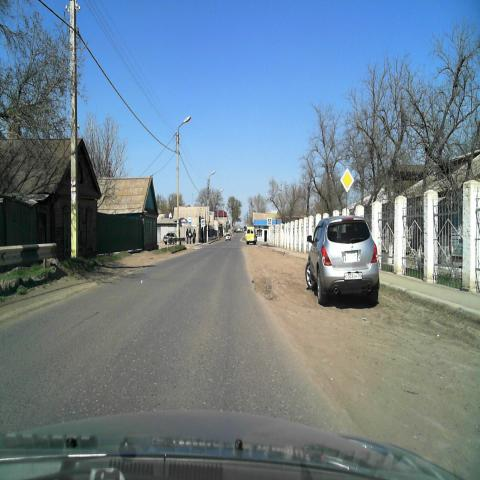2_1: (340, 168, 354, 194)
